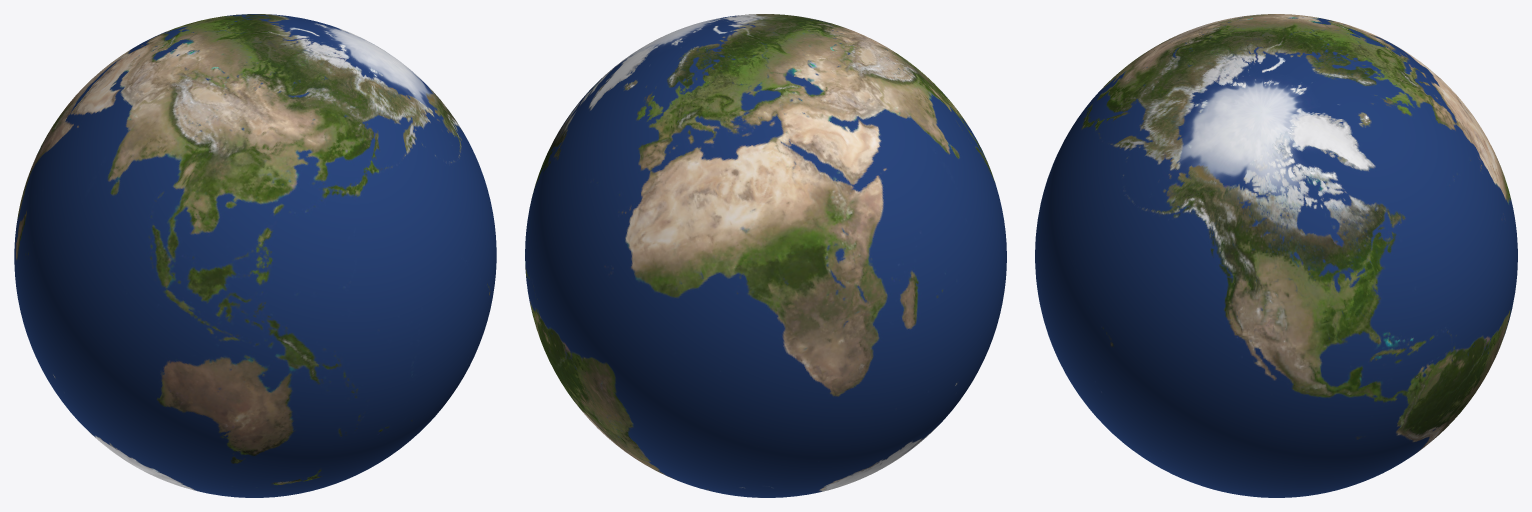
File: TIERRAV1.glb
The picture shows the model from 3 angles, left to right: view 1: azimuth 30°, elevation 25°; view 2: azimuth 150°, elevation 25°; view 3: azimuth 270°, elevation 25°; orthographic projection.
Visible parts, largest first — view 1: TIERRA; view 2: TIERRA; view 3: TIERRA.
Boxes of the visible parts, x1=… form: TIERRA: x1=14, y1=14, x2=496, y2=497; TIERRA: x1=525, y1=14, x2=1006, y2=497; TIERRA: x1=1035, y1=14, x2=1517, y2=497.
Bounding box in the file's own units: 0.62 × 0.6221 × 0.619.
1 material, 1 textured.
